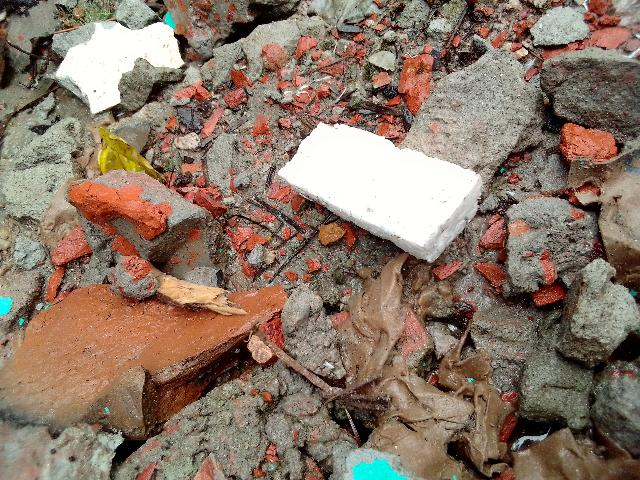cocksheet: (271, 101, 504, 284)
